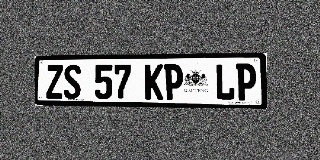5: (95, 64, 113, 99)
7: (113, 64, 131, 99)
K: (145, 64, 163, 100)
L: (215, 63, 235, 100)
P: (236, 63, 256, 101), (164, 64, 183, 100)
S: (63, 65, 81, 99)
Z: (46, 65, 63, 99)
